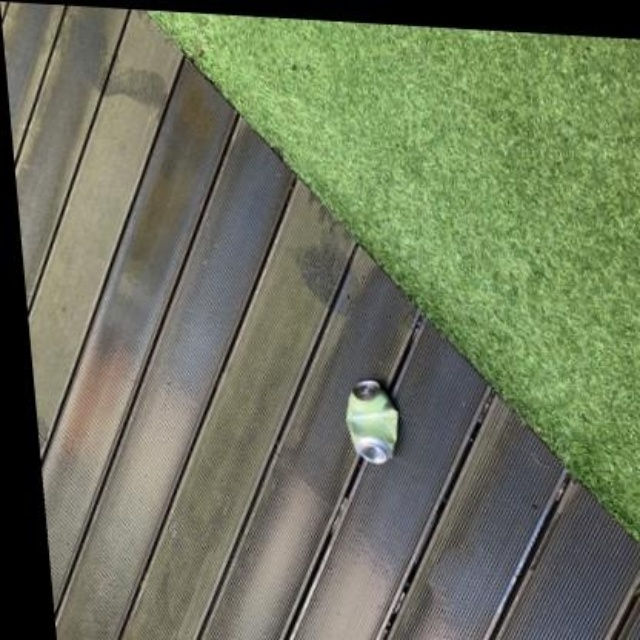trash: (346, 380, 397, 463)
